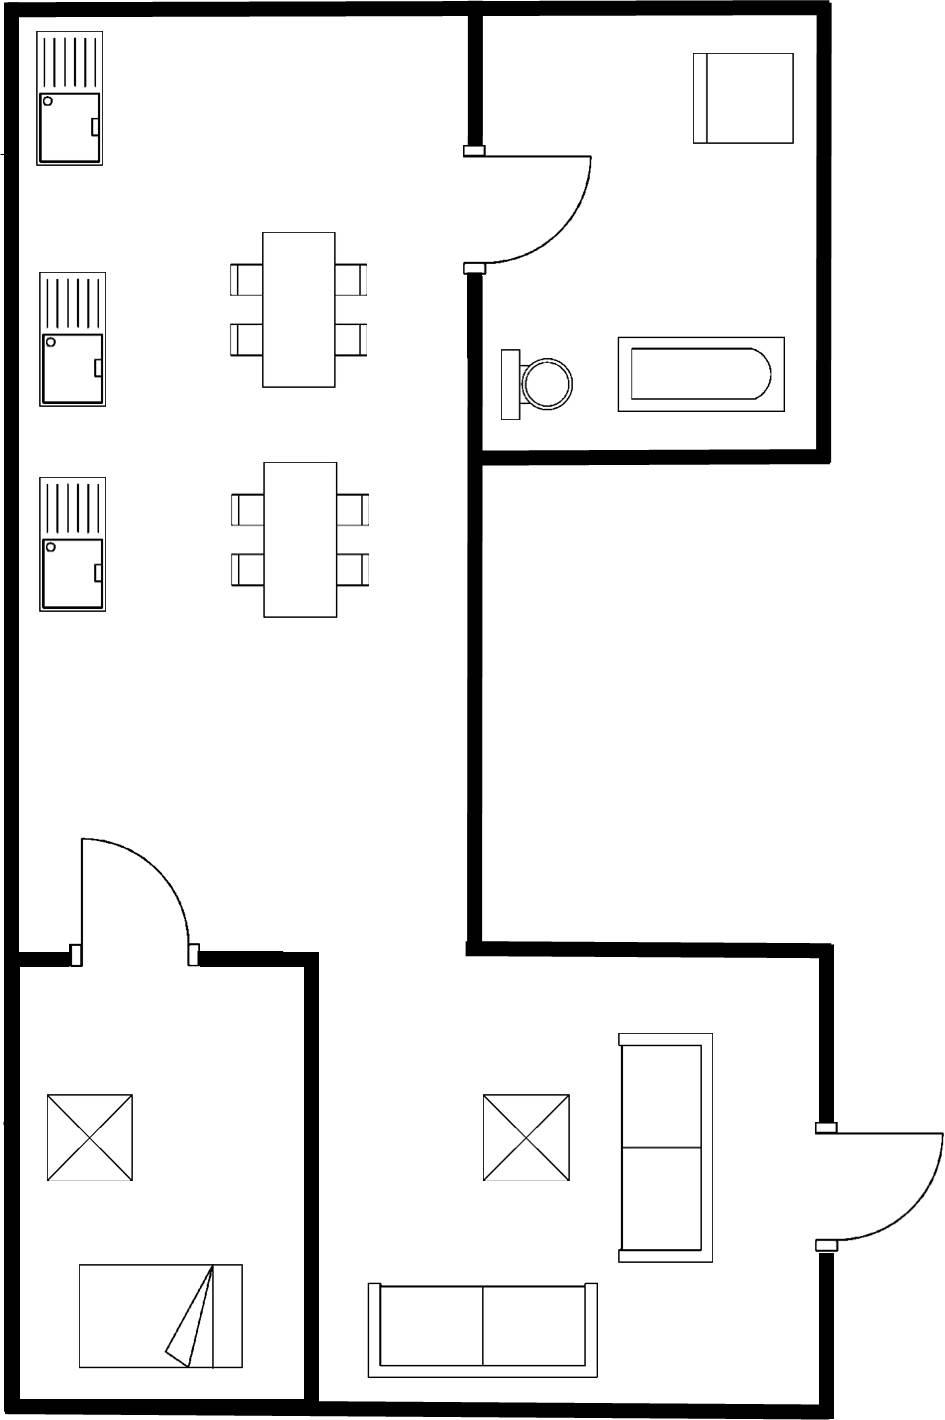bed: (69, 1254, 250, 1378)
dining_table: (219, 223, 373, 398), (221, 452, 378, 623)
sink: (30, 471, 114, 621), (30, 266, 111, 414), (28, 24, 109, 173)
sofa: (609, 1022, 719, 1270), (355, 1275, 605, 1384)
toilet: (493, 343, 575, 428)
tub: (609, 327, 791, 421)
